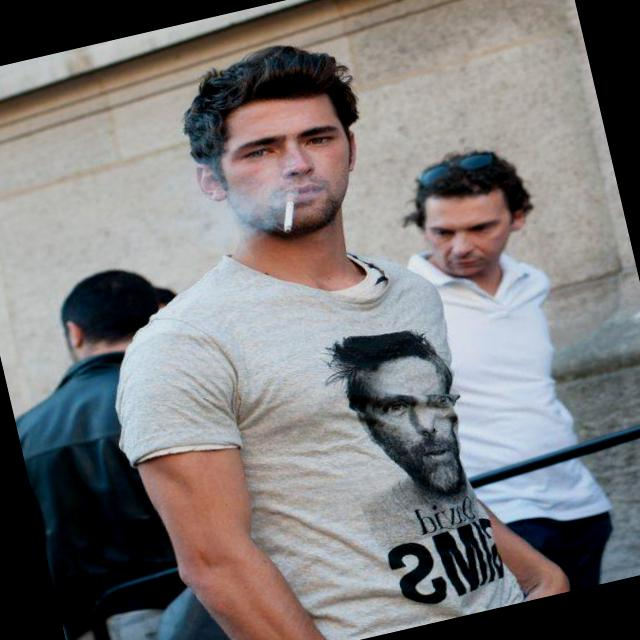smoke: (258, 175, 318, 245)
